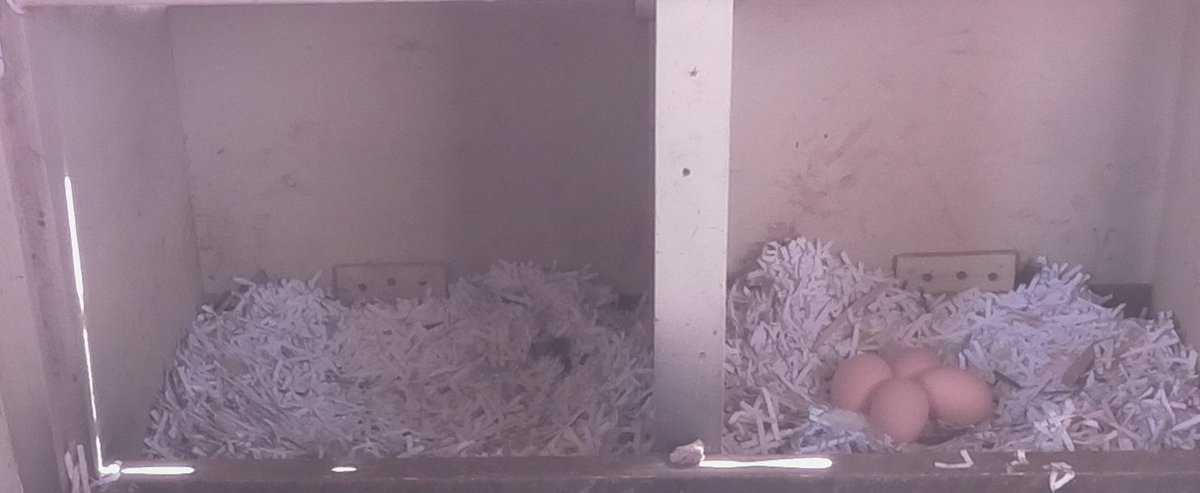egg: (911, 363, 1006, 428), (861, 371, 935, 451), (824, 348, 894, 412), (874, 341, 946, 381)
